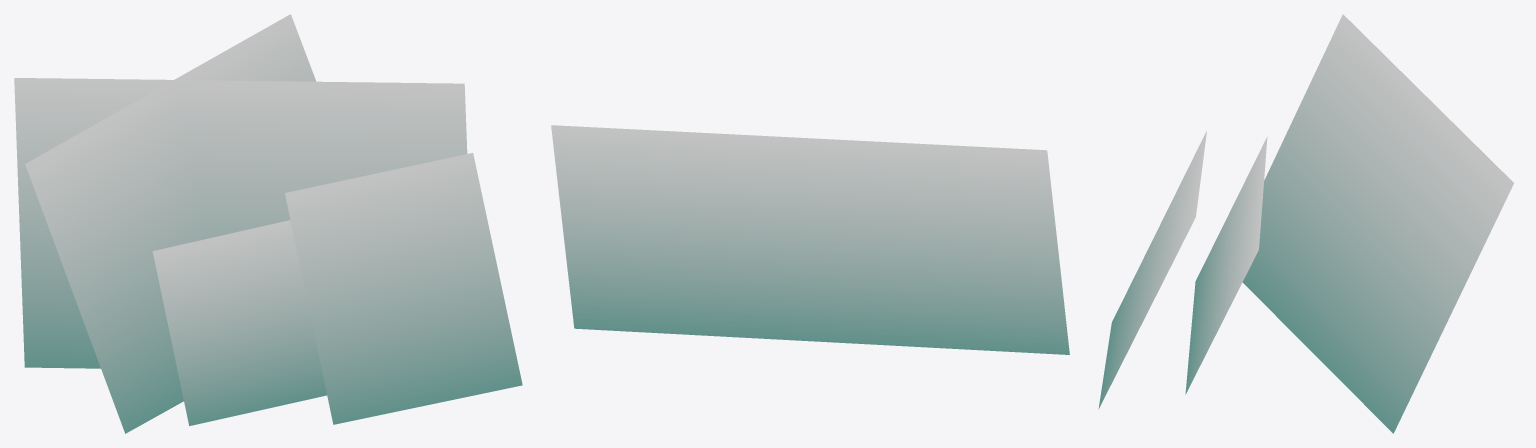
Rendered from tuft-route.glb.
3 views of the same model, side by side, from view 1: azimuth 30°, elevation 25°; view 2: azimuth 150°, elevation 25°; view 3: azimuth 270°, elevation 25° (orthographic). The views are drawn at different scales.
Visible parts, largest first — view 1: tuft-route; view 2: tuft-route; view 3: tuft-route.
Boxes of the visible parts, <box> form: tuft-route: <box>14,14,522,433</box>; tuft-route: <box>551,125,1069,354</box>; tuft-route: <box>1098,14,1513,433</box>.
Bounding box in the file's own units: 0.5691 × 0.3109 × 0.5154.
